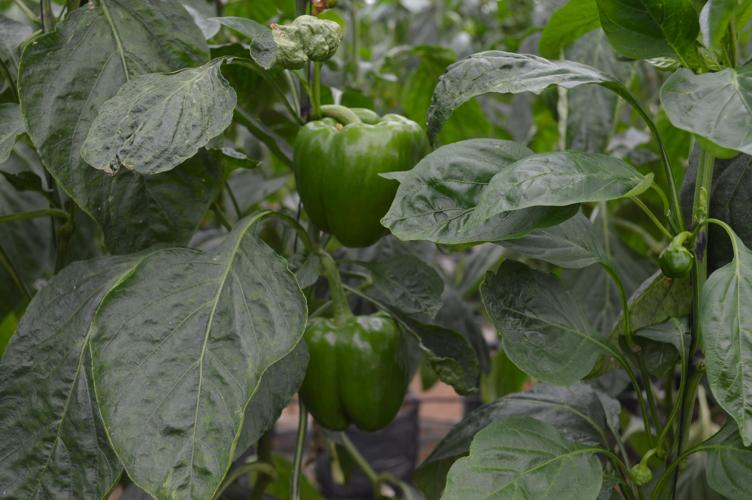BellPepper: (295, 115, 428, 247), (288, 312, 410, 434)
